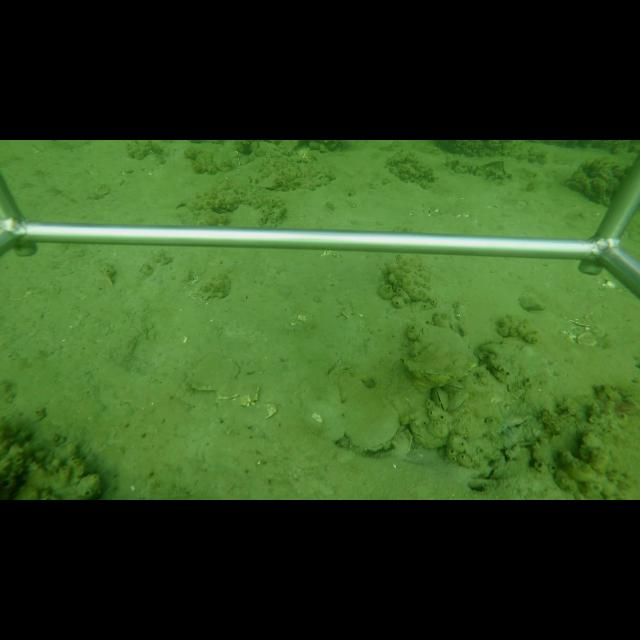Oyster-Closed: (337, 370, 404, 453), (402, 321, 482, 385), (446, 390, 470, 414), (430, 385, 450, 413), (442, 377, 465, 396)
